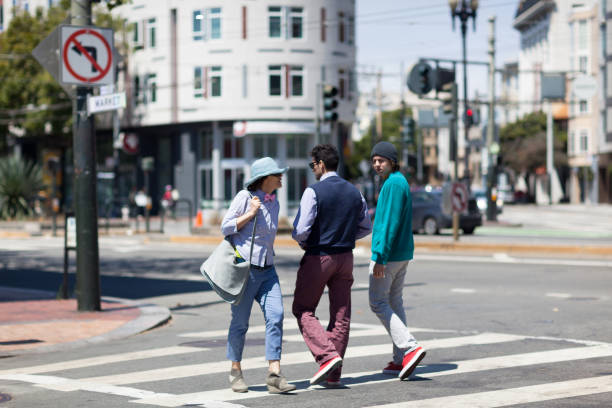sola_girilmez: (60, 19, 126, 94)
yaya: (274, 122, 374, 379), (196, 151, 289, 393), (366, 130, 430, 407)
